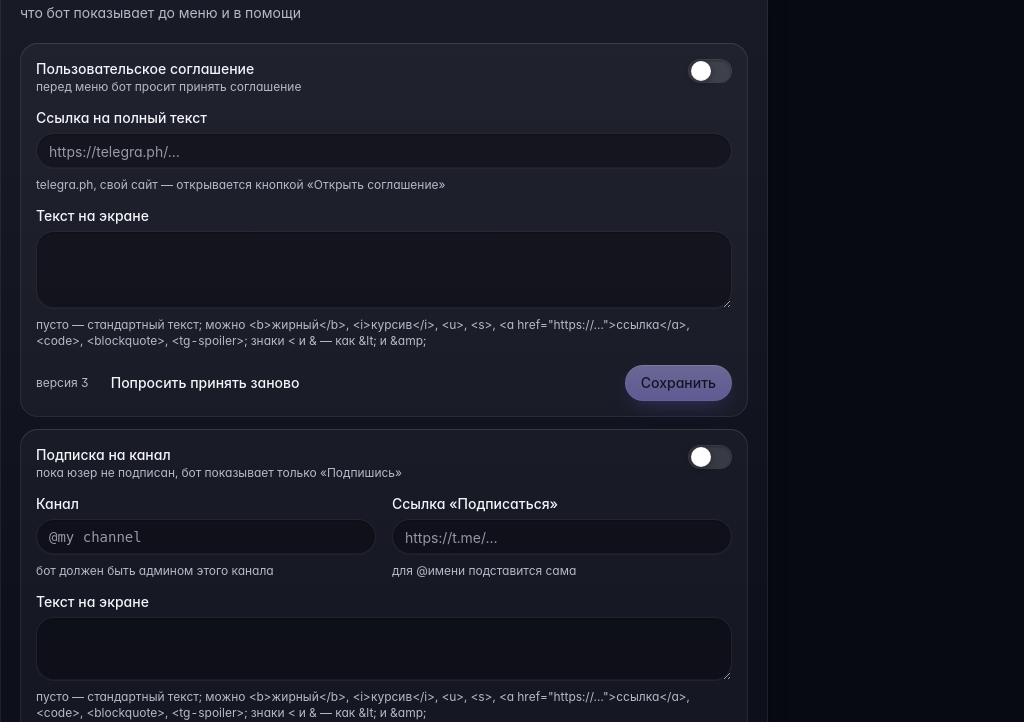
Test: BotSection › checks the channel fields
This screenshot has width=1024, height=722.
Click the switch named "Подписка на канал" at [710, 457], box [688, 445, 732, 469]
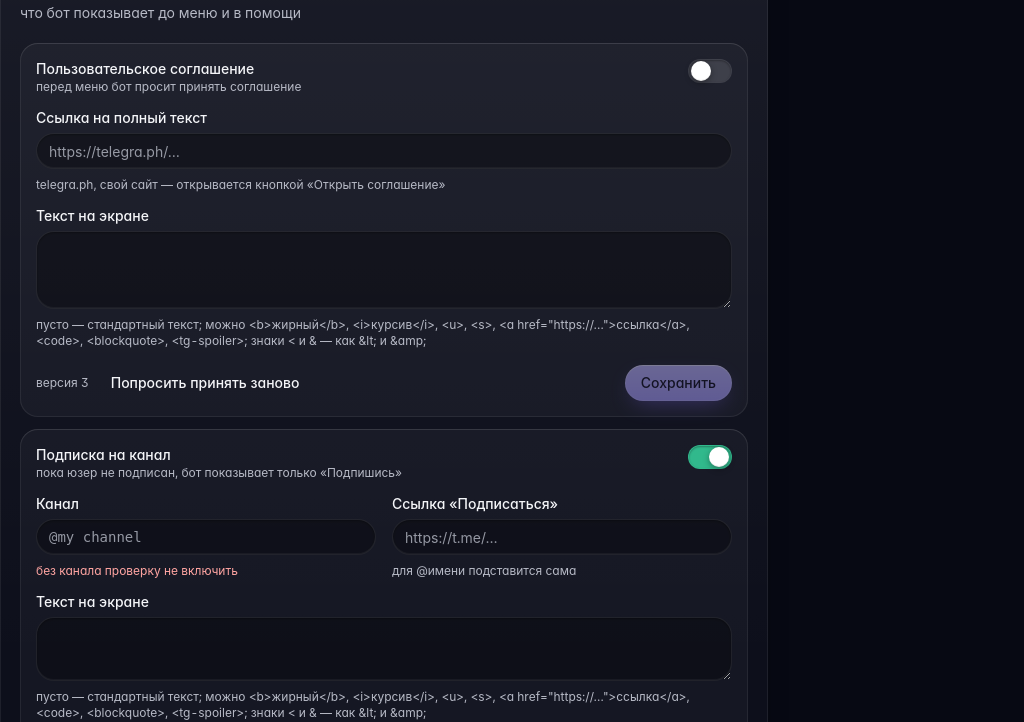
Type "nora" into the field labelled "Канал" at [206, 537], box [36, 519, 376, 555]
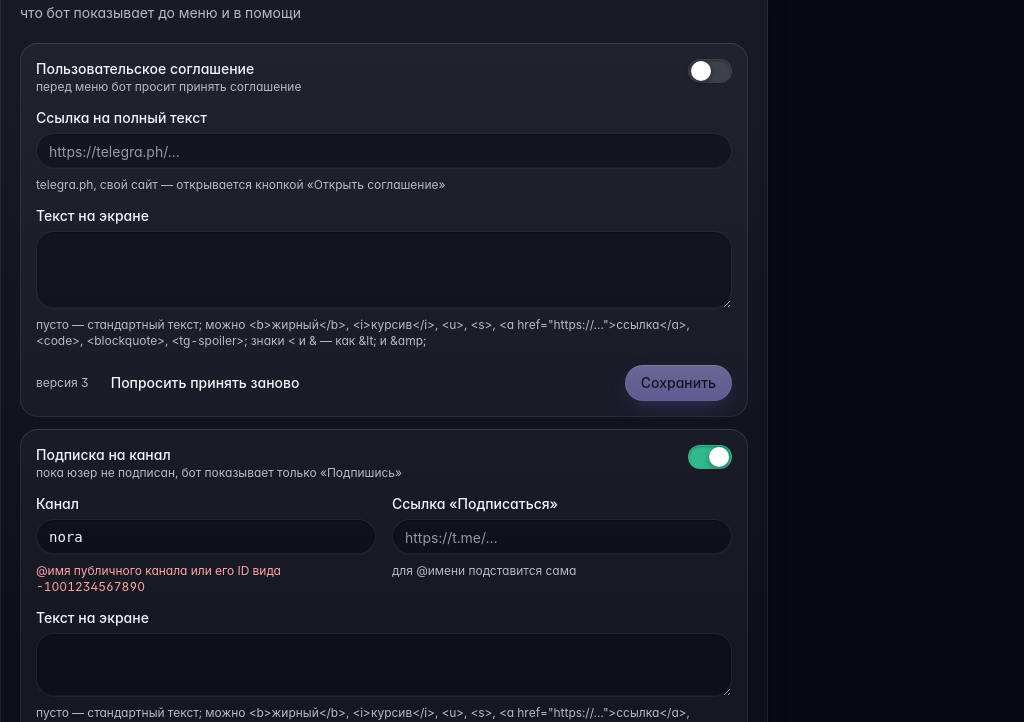
Expected: the text "@имя публичного канала или его ID вида -1001234567890" is shown, [36, 563, 281, 594]
Replace the text in the field labelled "Канал" with "-1001234567890" at [206, 537], box [36, 519, 376, 555]
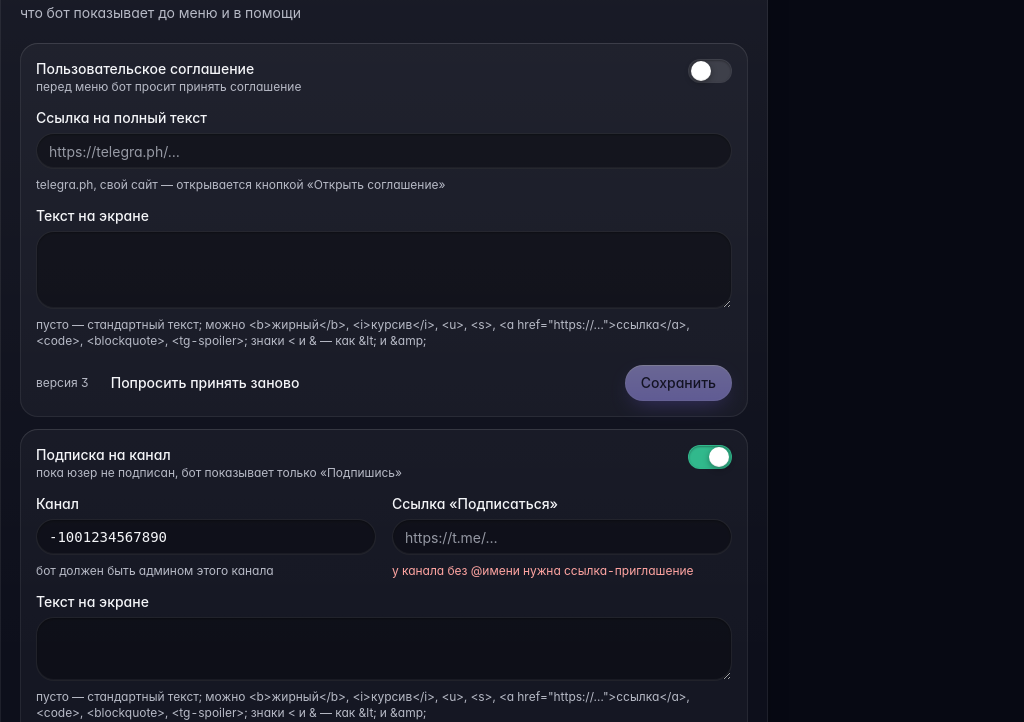
Expected: the text "у канала без @имени нужна ссылка-приглашение" is shown, [392, 563, 732, 579]
Type "https://t.me/+Invite" into the field labelled "Ссылка «Подписаться»" at [562, 537], box [392, 519, 732, 555]
(page scrolled)
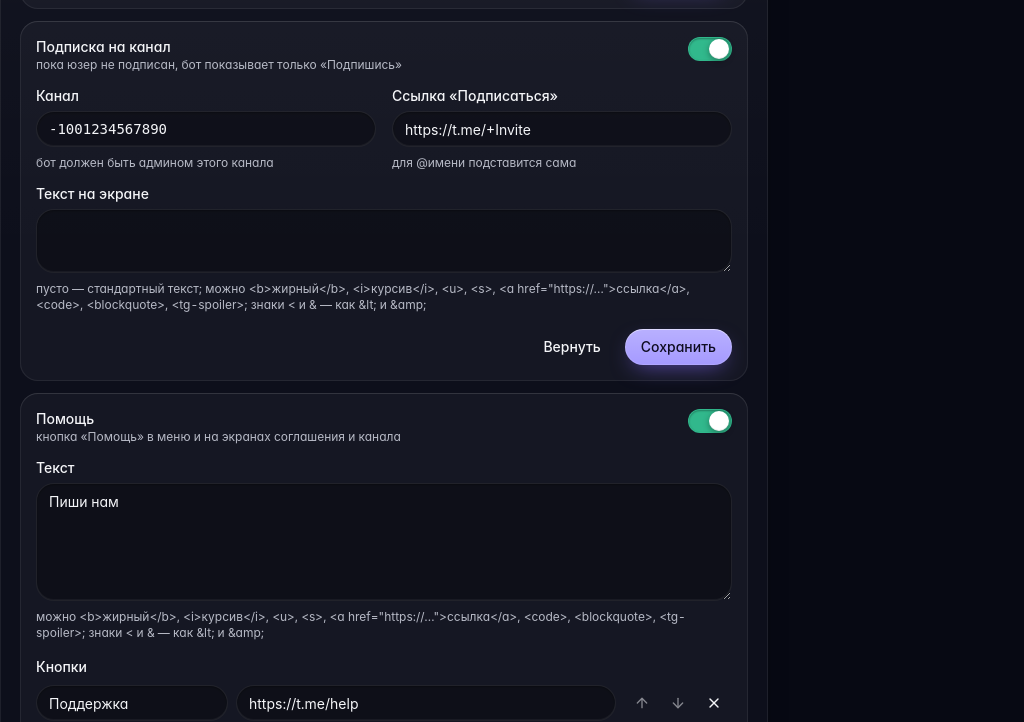
Expected: the button "Сохранить" below "для @имени подставится сама" is enabled, [625, 329, 732, 365]
